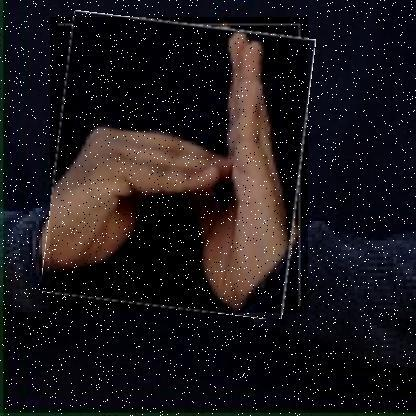Z: (49, 17, 308, 314)
